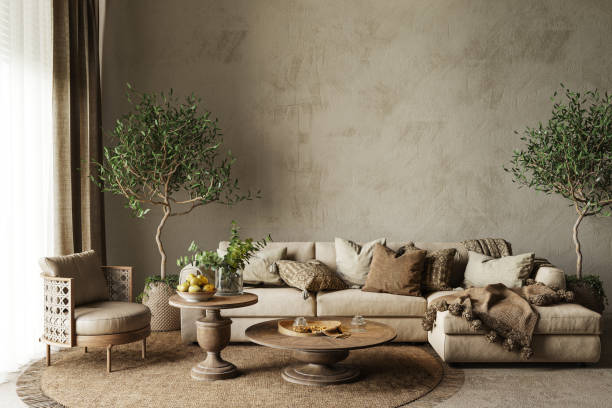chair: (38, 248, 152, 374)
large plant: (92, 82, 221, 329), (510, 84, 612, 310)
small plant: (189, 217, 273, 296)
sofa: (177, 237, 604, 368)
table: (243, 313, 399, 386), (166, 288, 259, 383)
